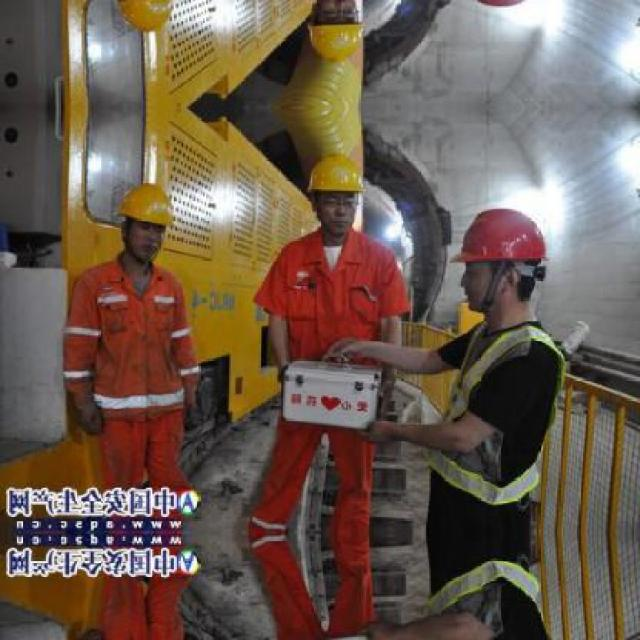Reflective-Jacket: (411, 318, 580, 534), (263, 230, 406, 436), (59, 258, 203, 438)
Safety-Helmet: (442, 198, 564, 288), (109, 177, 186, 238), (300, 148, 375, 206)
